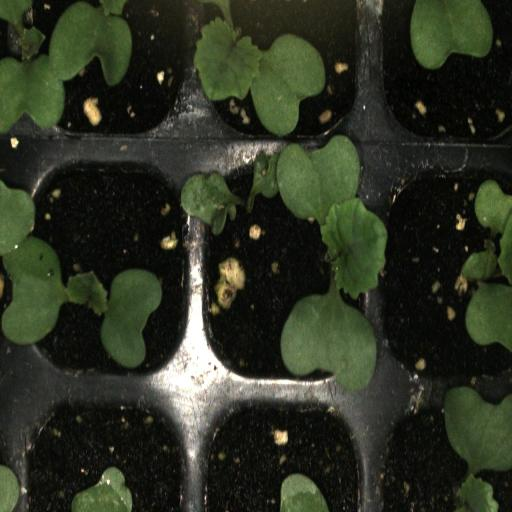Folha: (461, 180, 512, 351), (181, 169, 239, 234), (71, 466, 133, 512), (280, 473, 329, 512)
Germinacao: (193, 151, 371, 405), (12, 152, 192, 398), (371, 152, 512, 404), (13, 0, 198, 151), (200, 0, 372, 152), (371, 397, 512, 512)
